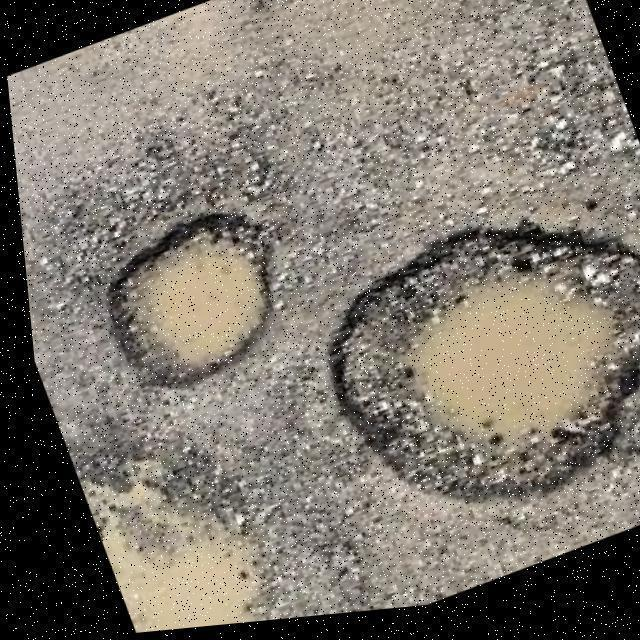Pothole: (320, 239, 640, 518), (57, 441, 256, 634), (102, 219, 257, 395)
